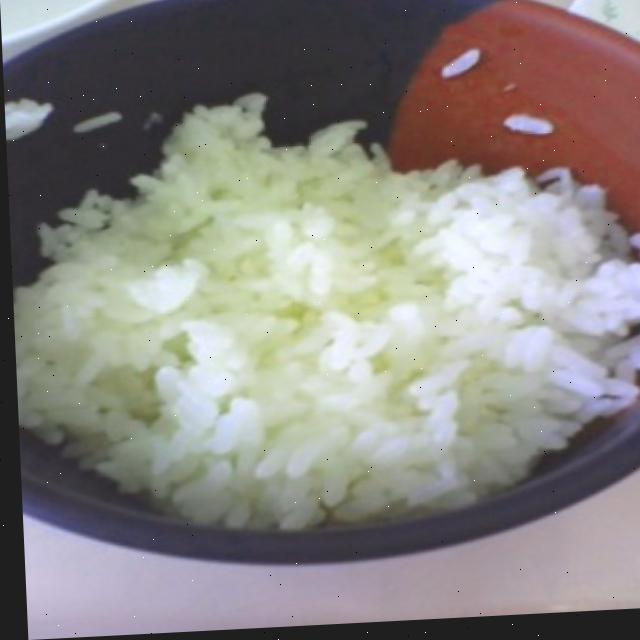米饭主食: (5, 109, 640, 576)
